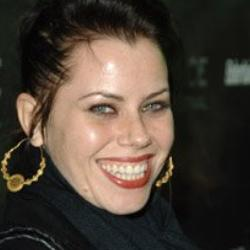face: (7, 10, 182, 213)
